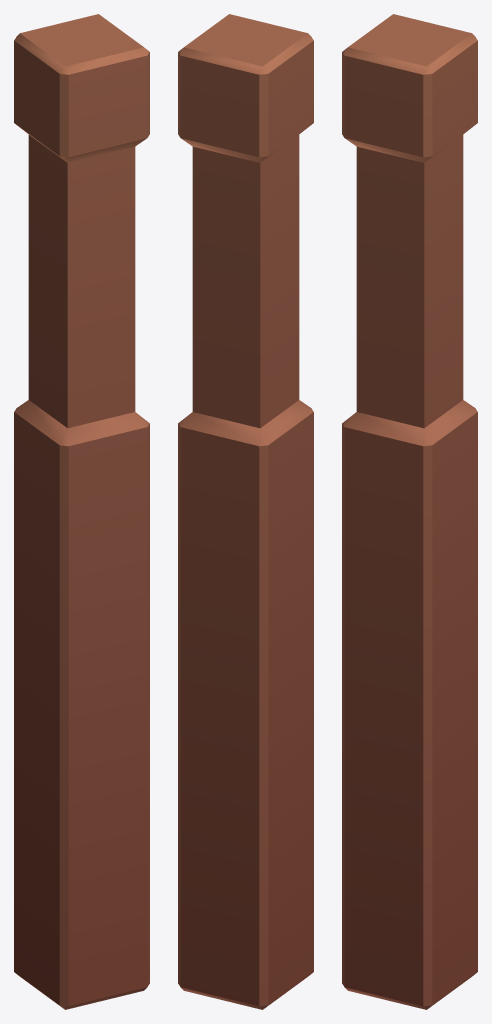
The model's file is post.glb.
3 views of the same model, side by side, from view 1: azimuth 30°, elevation 25°; view 2: azimuth 150°, elevation 25°; view 3: azimuth 330°, elevation 25° (orthographic).
Parts seen in each view (by area): view 1: post; view 2: post; view 3: post.
Boxes of the visible parts, bbox=[...] form: post: bbox=[14, 14, 149, 1009]; post: bbox=[178, 14, 313, 1009]; post: bbox=[342, 14, 477, 1009].
Bounding box in the file's own units: 0.4 × 4 × 0.4.
1 material, 1 textured.
